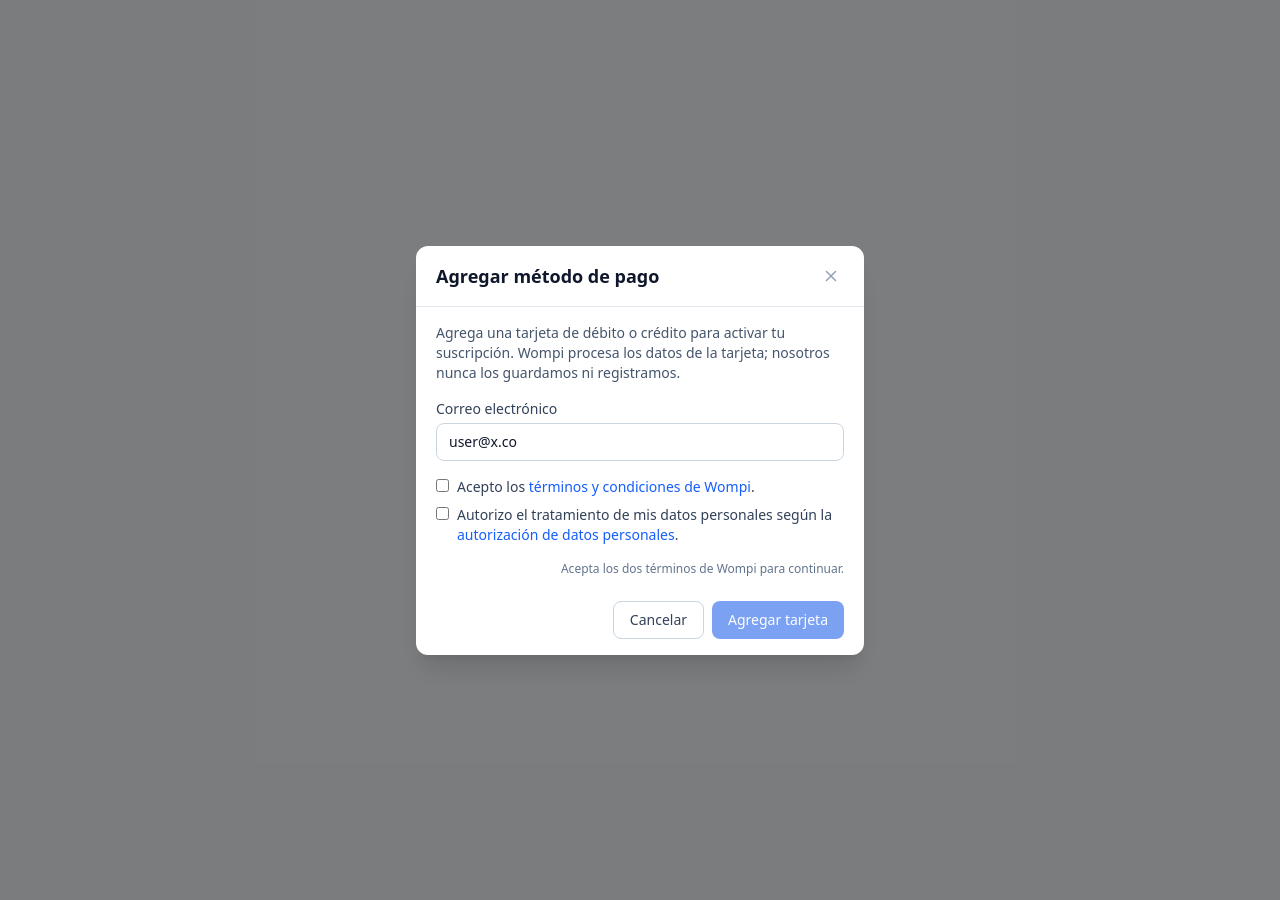
Scenario: MetodoPagoFlow › lets the user recover manually when the widget never answers
Click the checkbox labelled "Acepto los términos y condiciones de Wompi ." at [442, 485], box left=436, top=478, right=449, bottom=492
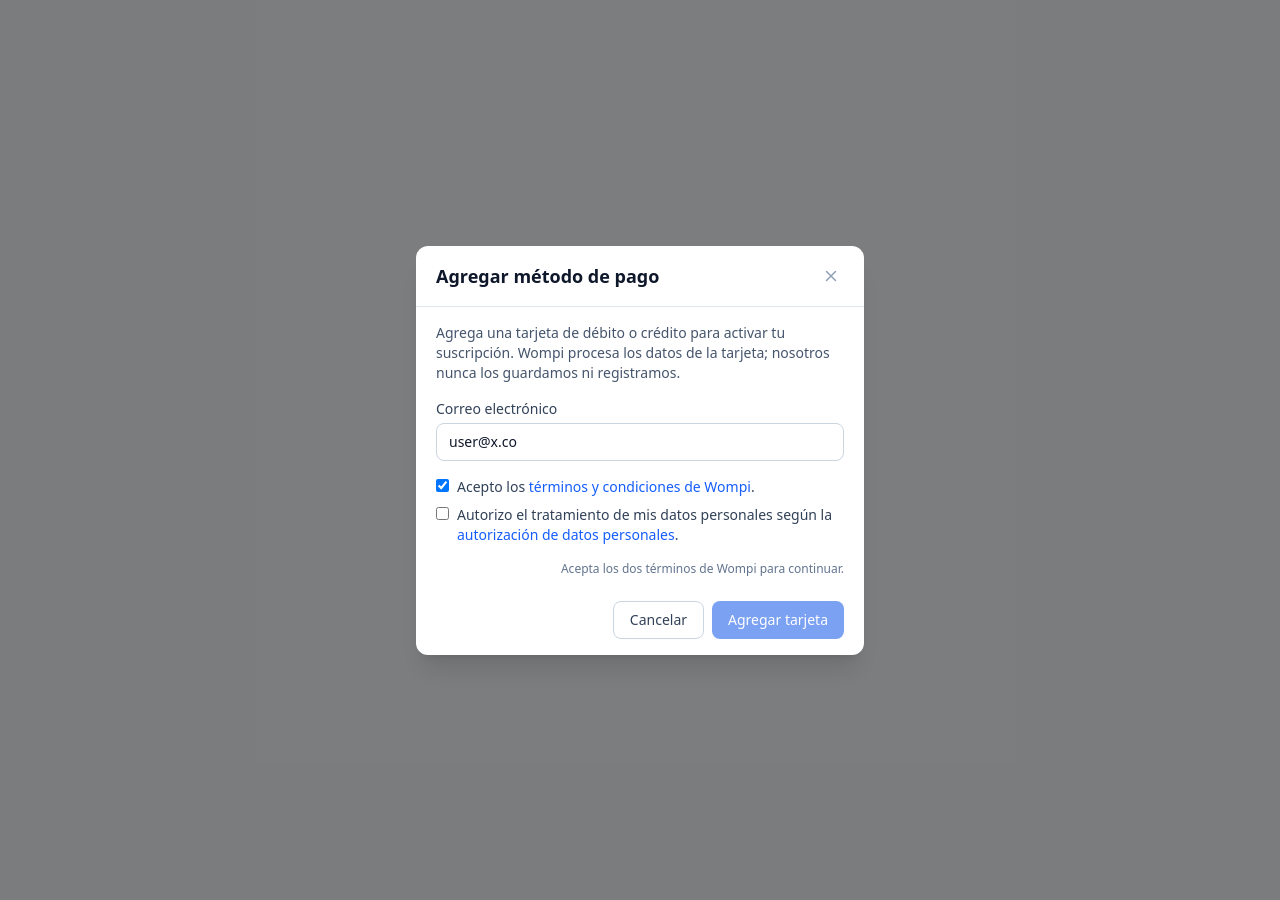
Click the 2nd checkbox at [442, 513], box left=436, top=506, right=449, bottom=520
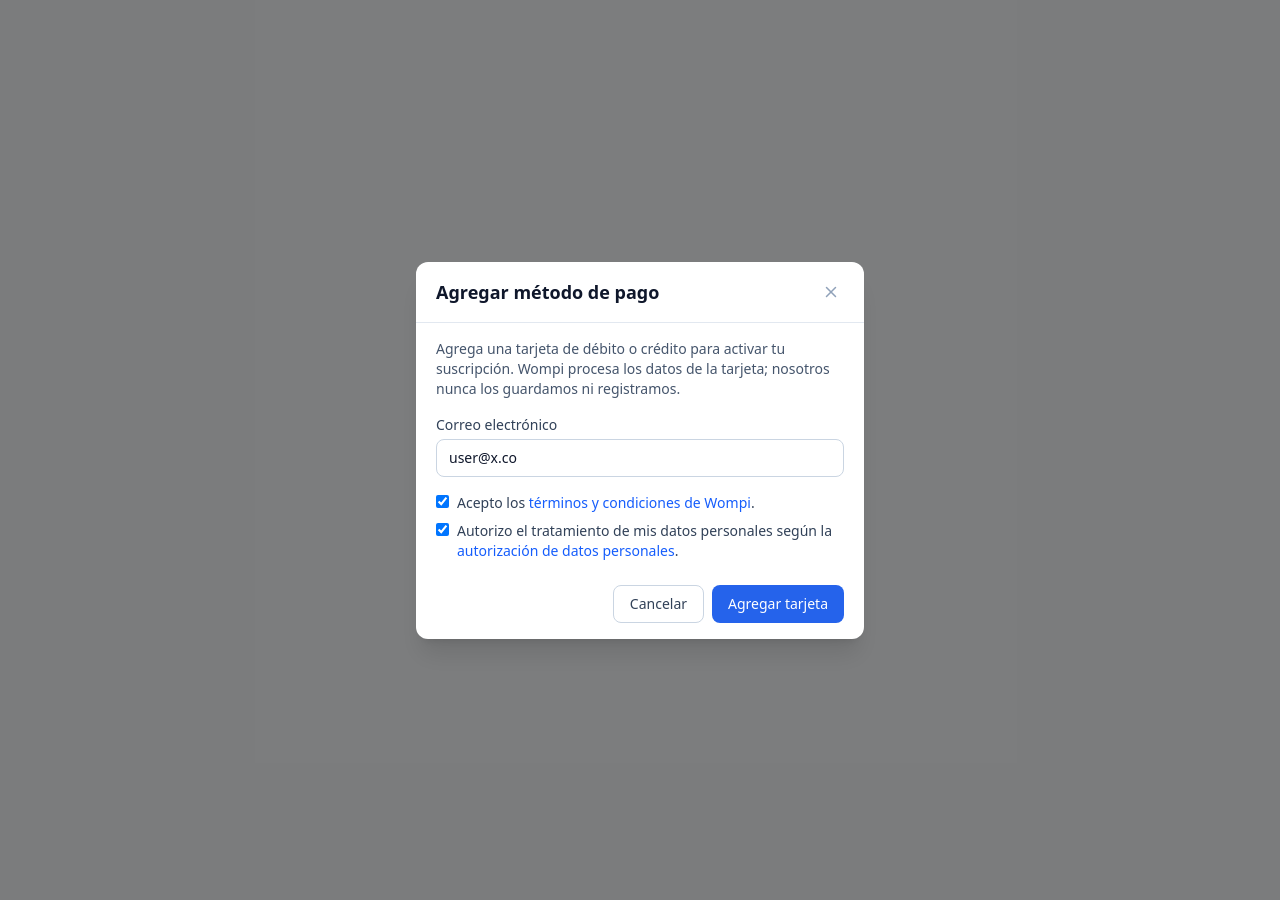
Click the button "Agregar tarjeta" at [778, 604], box left=712, top=584, right=844, bottom=622
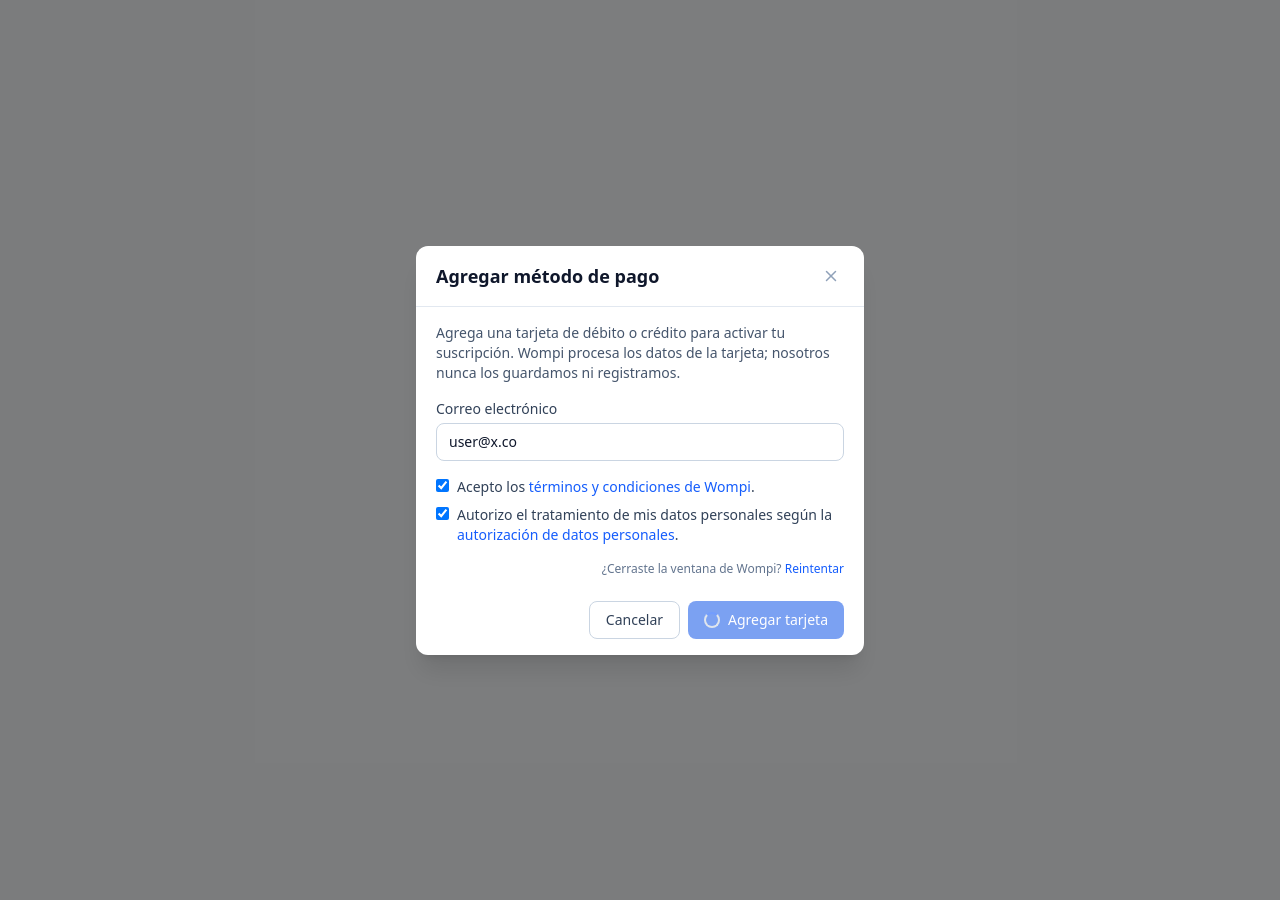
Click the button "Reintentar" at [814, 568], box left=785, top=560, right=844, bottom=576
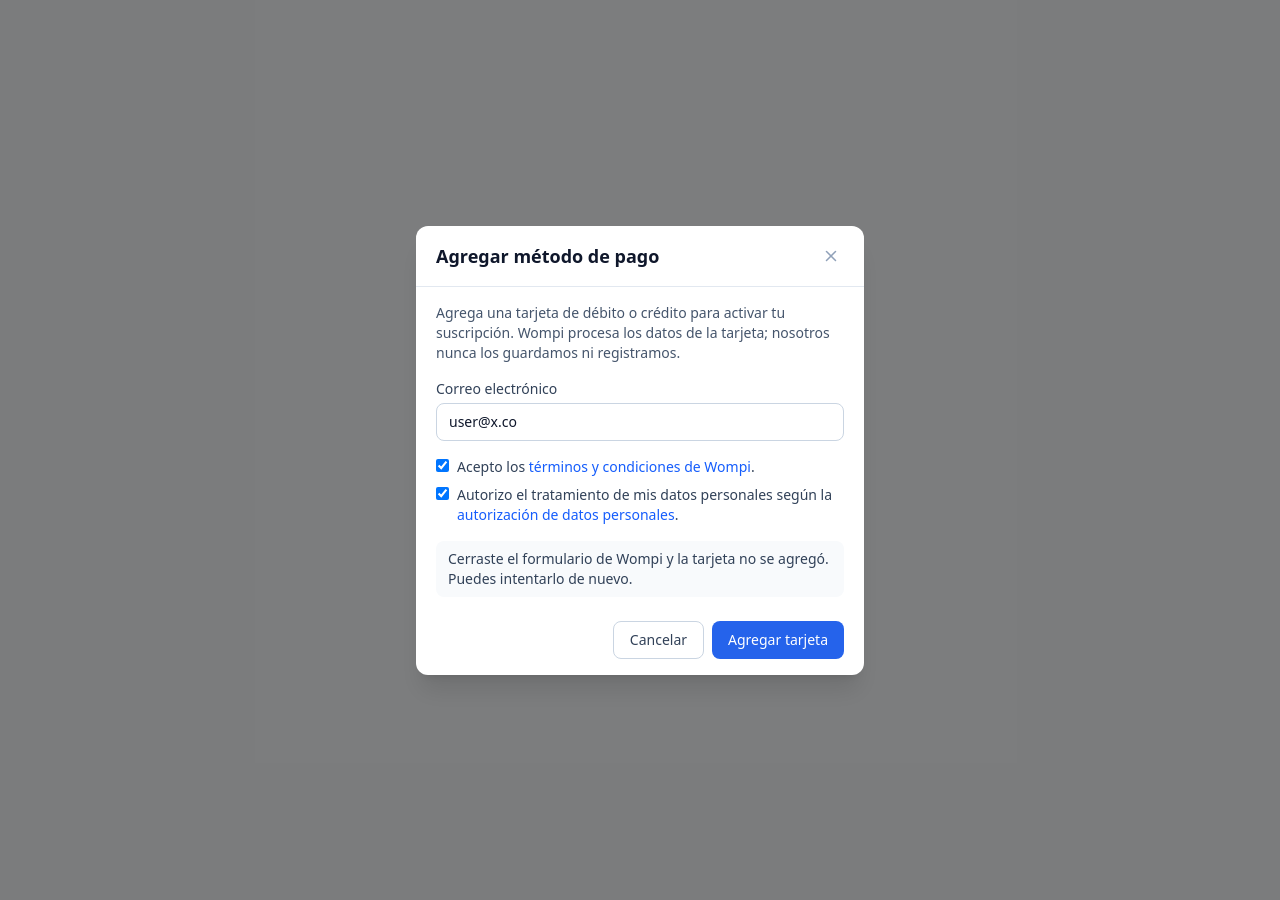
Now the text "Cerraste el formulario de Wompi" is shown, box left=448, top=548, right=829, bottom=588
Now the button "Agregar tarjeta" is enabled, box left=712, top=620, right=844, bottom=658
